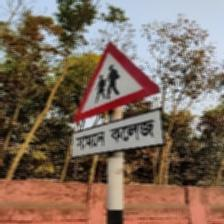College-in-front: (52, 41, 203, 157)
